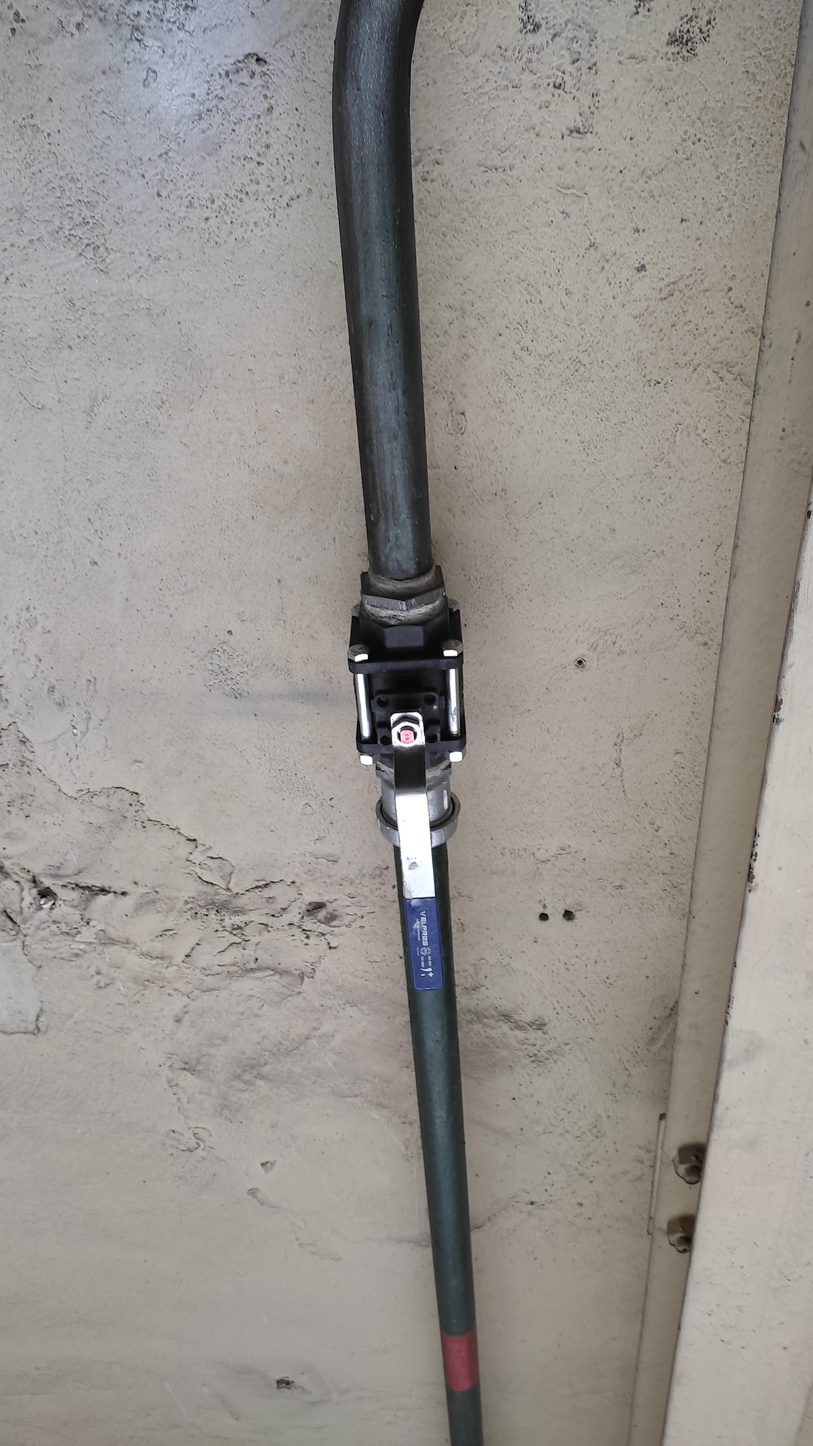opened valve: (346, 592, 472, 998)
